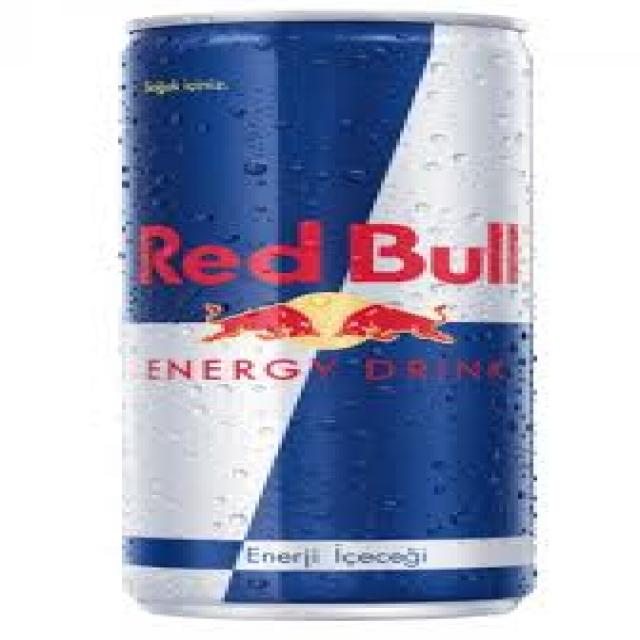red-bull: (110, 15, 546, 624)
